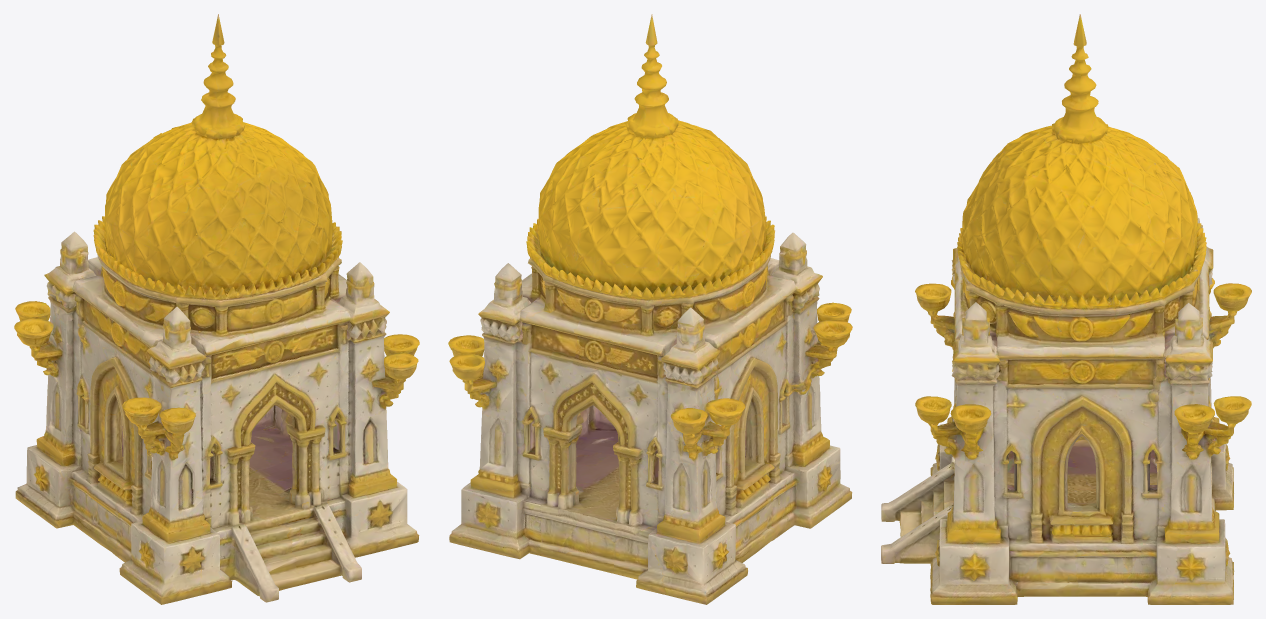
File: RadianceCourt.glb
The picture shows the model from 3 angles, left to right: view 1: azimuth 30°, elevation 25°; view 2: azimuth 150°, elevation 25°; view 3: azimuth 270°, elevation 25°; orthographic projection. The views are drawn at different scales.
Size of the model in its own units: 1.15 by 1.9 by 1.21.
1 material, 1 textured.
